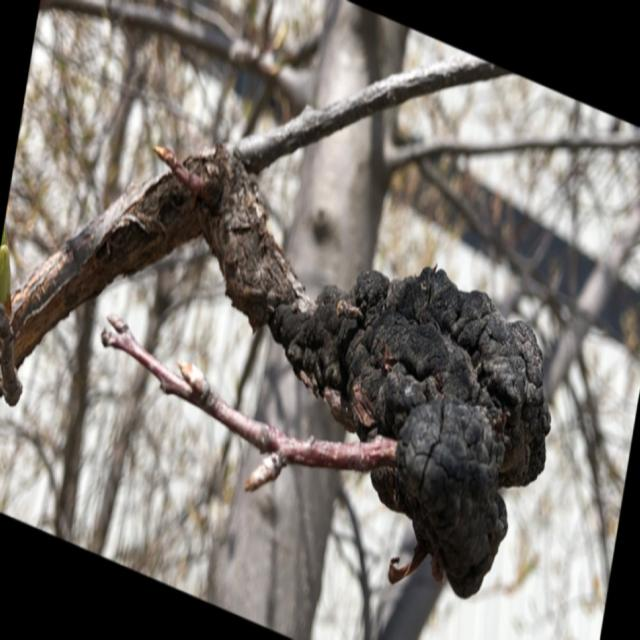Black_knot: (273, 261, 552, 600), (394, 393, 508, 599)
